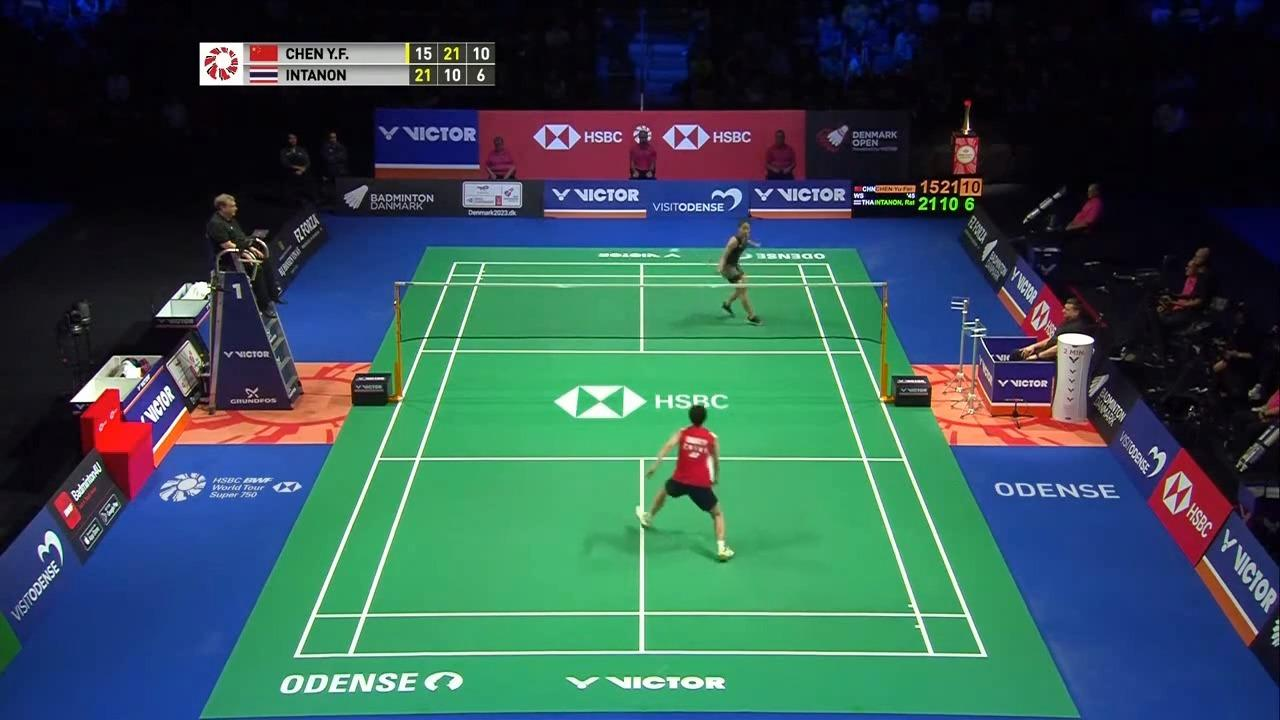shuttle: (667, 246, 681, 254)
